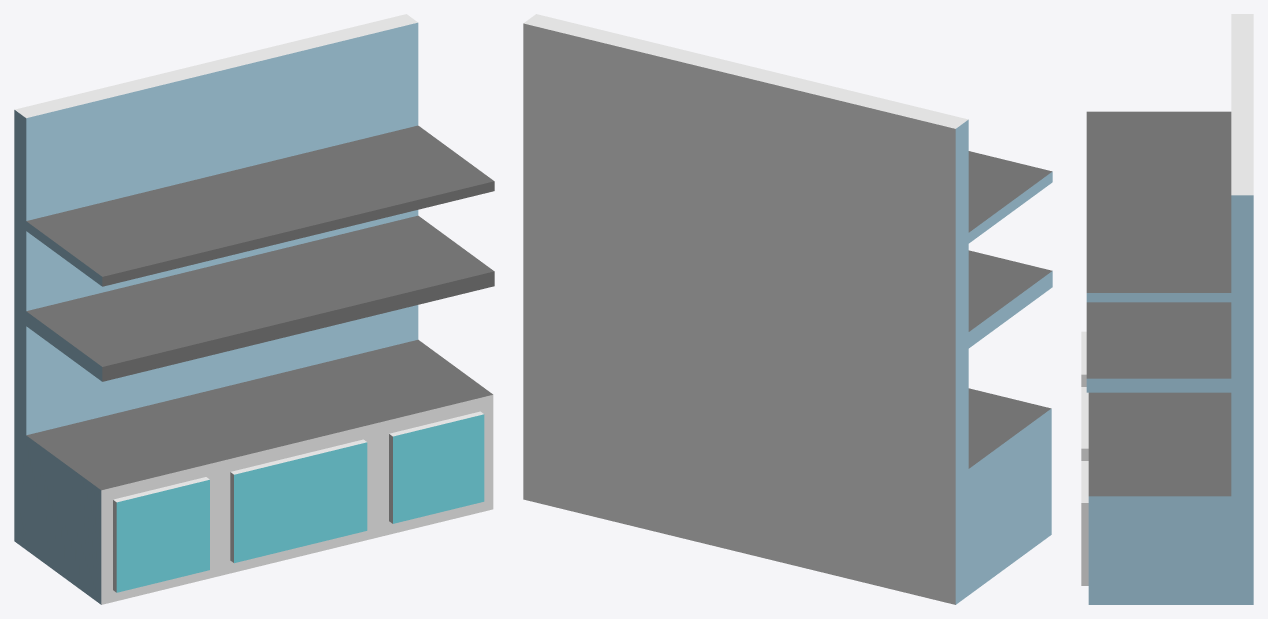
Rendered from Pharmacy Cabinet.fbx.
3 renders of one model, left to right at view 1: azimuth 30°, elevation 25°; view 2: azimuth 150°, elevation 25°; view 3: azimuth 270°, elevation 25°, orthographic. The views are drawn at different scales.
Parts seen in each view (by area): view 1: Cube; view 2: Cube; view 3: Cube.
Part boxes in pixels (left/top/right/bottom): Cube: left=14, top=14, right=494, bottom=604; Cube: left=523, top=14, right=1052, bottom=604; Cube: left=1081, top=14, right=1253, bottom=604.
Size of the model in its own units: 716 by 753 by 287.
